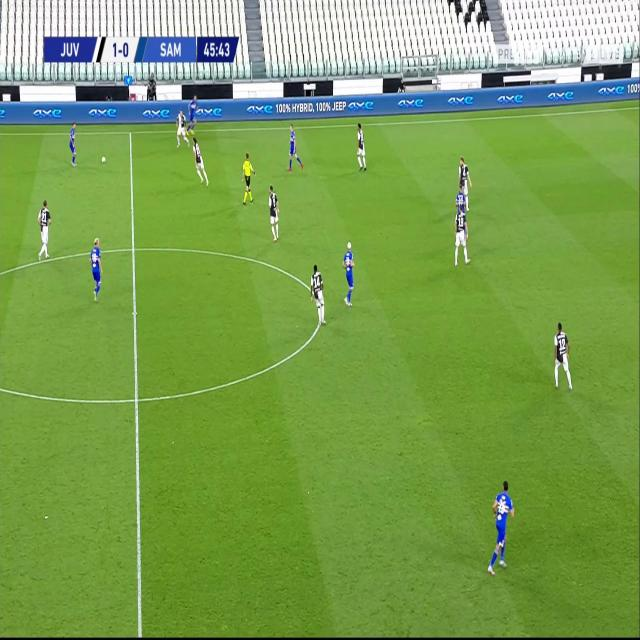ball: (100, 154, 106, 164)
player: (485, 476, 519, 576), (552, 320, 574, 390), (340, 241, 358, 308), (453, 206, 471, 269), (88, 236, 105, 302), (310, 262, 326, 326), (36, 199, 52, 261), (191, 138, 210, 190), (286, 123, 304, 174), (266, 184, 281, 242), (354, 122, 368, 174), (458, 156, 471, 212), (186, 95, 200, 136), (174, 110, 189, 148), (68, 122, 79, 167), (456, 185, 466, 214)
referee: (241, 151, 257, 205)
